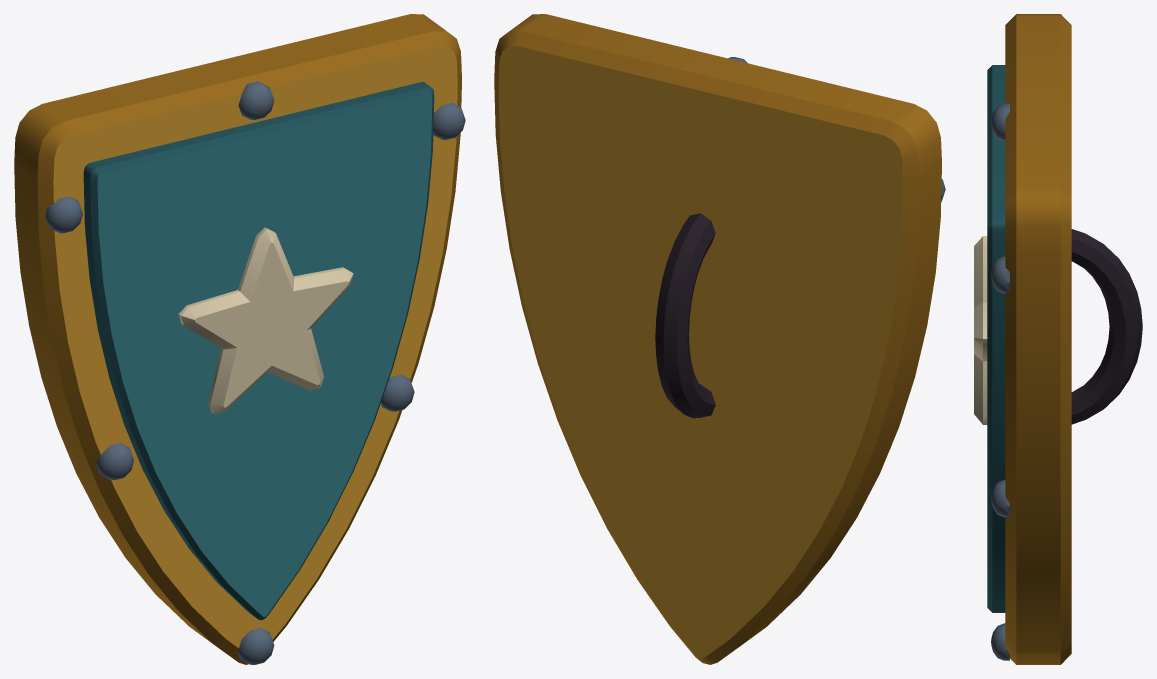
Rendered from HeaterShield_24.glb.
The picture shows the model from 3 angles, left to right: view 1: azimuth 30°, elevation 25°; view 2: azimuth 150°, elevation 25°; view 3: azimuth 270°, elevation 25°; orthographic projection. The views are drawn at different scales.
Visible parts, largest first — view 1: HeaterShield_24; view 2: HeaterShield_24; view 3: HeaterShield_24.
Part boxes in pixels (<box>): HeaterShield_24: <box>14,14,465,664</box>; HeaterShield_24: <box>494,14,945,664</box>; HeaterShield_24: <box>974,14,1142,664</box>.
Bounding box in the file's own units: 2.11 × 2.79 × 0.76.
